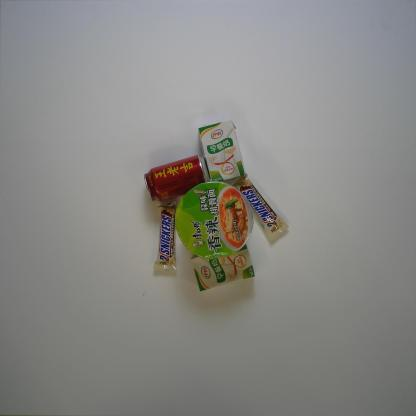Chocolate: (231, 173, 290, 242), (153, 200, 177, 273)
Drink: (144, 154, 210, 202)
Instant Noodles: (174, 181, 254, 260)
Milk: (190, 243, 256, 292), (198, 119, 245, 183)
